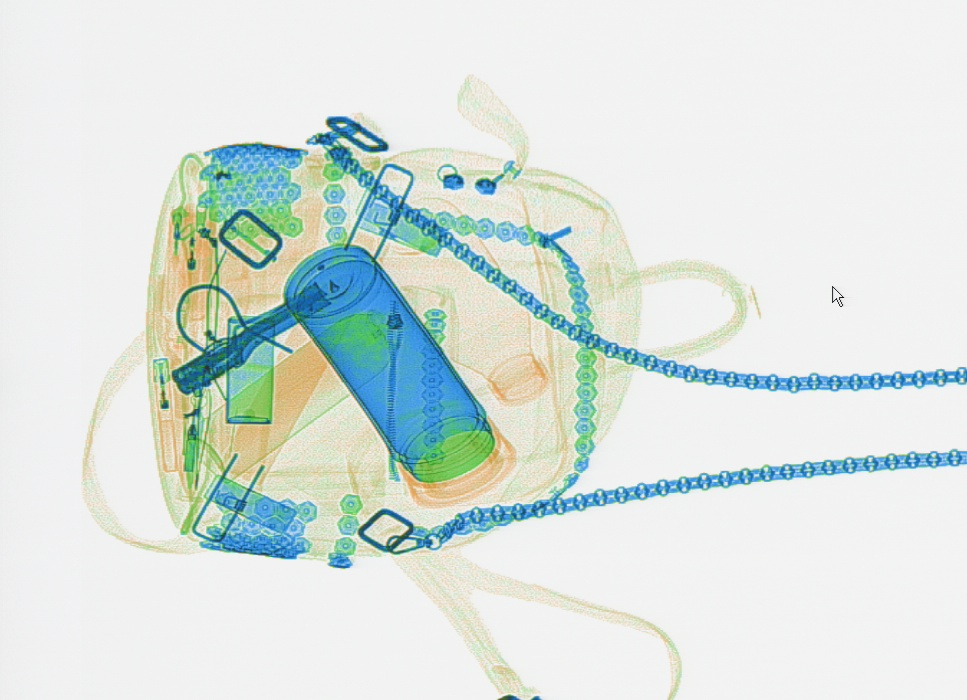lighter: (167, 200, 217, 318), (151, 356, 183, 476)
pressure: (179, 299, 405, 491)
